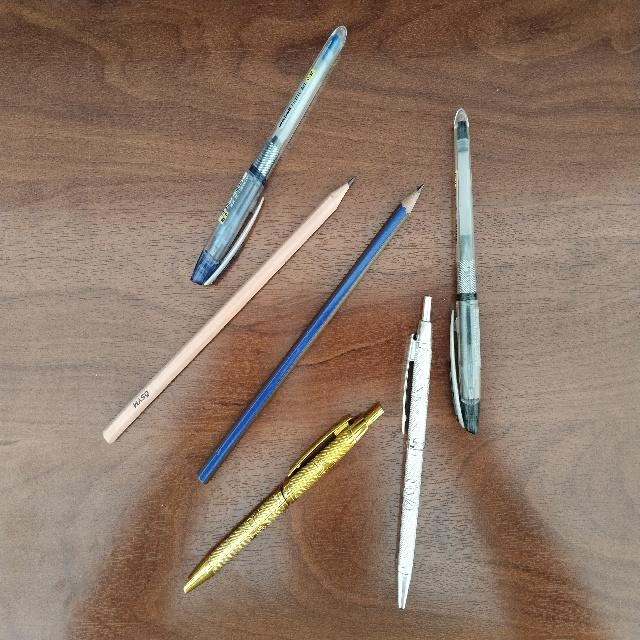pen: (191, 26, 346, 284), (450, 109, 480, 433)
pencil: (198, 185, 422, 482), (103, 178, 353, 442)
signature pen: (184, 404, 382, 592), (398, 296, 431, 608)
